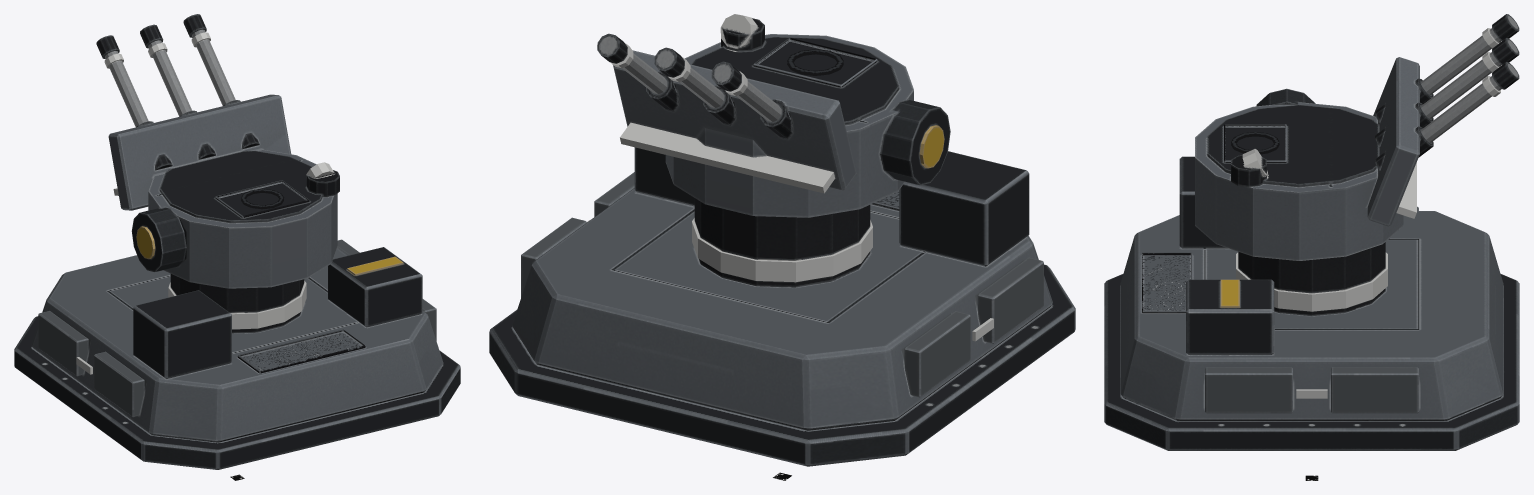
File: chs_hailstorm.fbx
3 views of the same model, side by side, from view 1: azimuth 30°, elevation 25°; view 2: azimuth 150°, elevation 25°; view 3: azimuth 270°, elevation 25° (orthographic). The views are drawn at different scales.
Parts seen in each view (by area): view 1: base_bar, turret_bar, base_glow_power_bar, turret_glow_weapon_bar; view 2: base_bar, turret_bar, turret_glow_running_bar, base_glow_power_bar; view 3: base_bar, turret_bar, base_glow_power_bar, turret_glow_running_bar, turret_glow_weapon_bar.
Part boxes in pixels (x1=…): base_bar: x1=14, y1=239, x2=460, y2=469; turret_bar: x1=96, y1=14, x2=339, y2=288; base_glow_power_bar: x1=168, y1=280, x2=306, y2=329; turret_glow_weapon_bar: x1=104, y1=32, x2=210, y2=68; base_bar: x1=489, y1=147, x2=1075, y2=466; turret_bar: x1=597, y1=18, x2=950, y2=217; turret_glow_running_bar: x1=620, y1=14, x2=835, y2=193; base_glow_power_bar: x1=692, y1=218, x2=872, y2=282; base_bar: x1=1104, y1=156, x2=1519, y2=450; turret_bar: x1=1195, y1=14, x2=1519, y2=260; base_glow_power_bar: x1=1236, y1=252, x2=1387, y2=311; turret_glow_running_bar: x1=1242, y1=149, x2=1416, y2=218; turret_glow_weapon_bar: x1=1482, y1=28, x2=1500, y2=96.
Bounding box in the file's own units: 660 × 770 × 660.
Materials: 2 (2 with a texture image).
